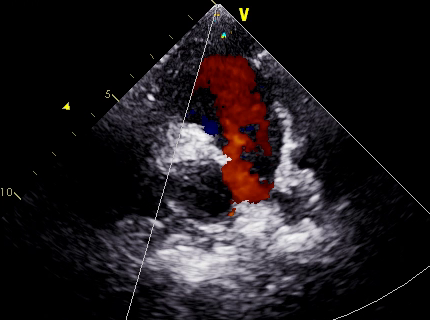PR: (206, 111, 286, 210)
